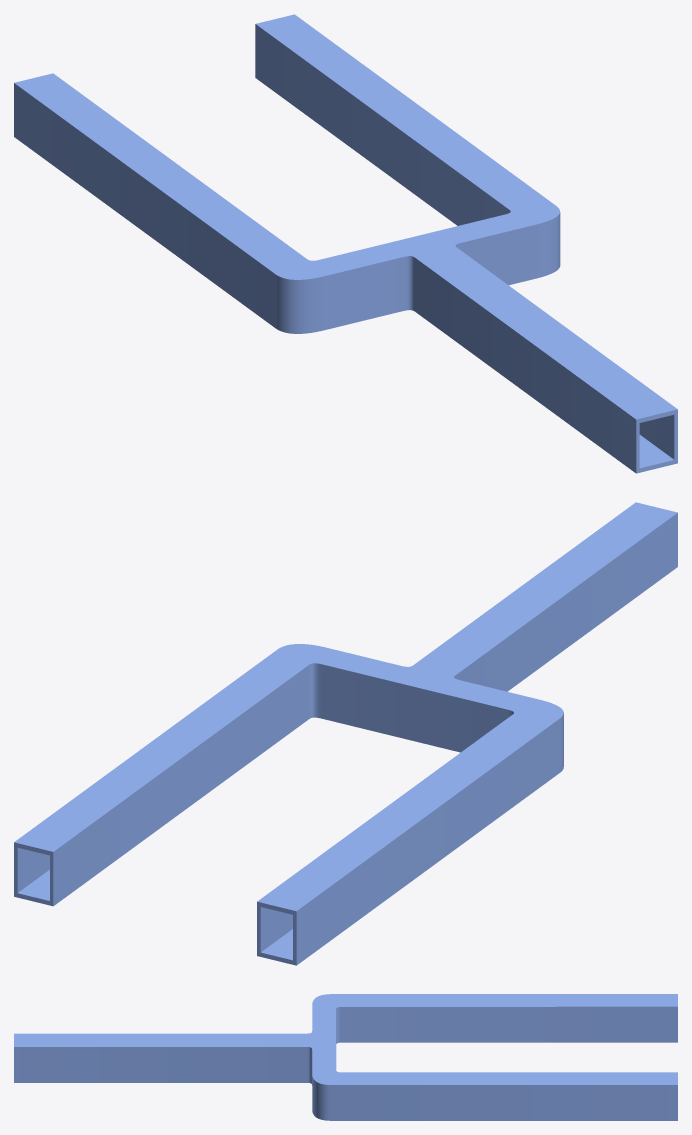
Rendered from avaricia.fbx.
3 renders of one model, top to bottom at view 1: azimuth 30°, elevation 25°; view 2: azimuth 150°, elevation 25°; view 3: azimuth 270°, elevation 25°, orthographic. The views are drawn at different scales.
Parts seen in each view (by area): view 1: Object007; view 2: Object007; view 3: Object007.
Boxes of the visible parts, <box> form: Object007: <box>14,14,677,473</box>; Object007: <box>14,502,677,965</box>; Object007: <box>14,994,677,1120</box>.
Bounding box in the file's own units: 398 × 73.21 × 1228.
